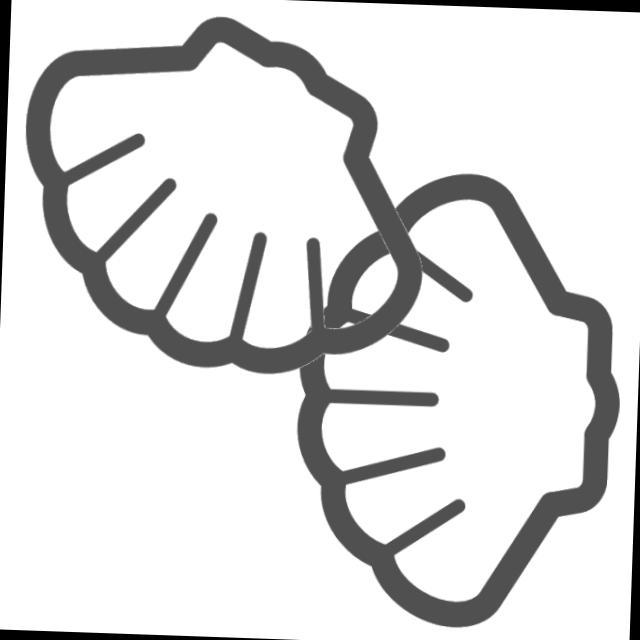shell: (282, 159, 636, 639), (8, 2, 442, 390)
